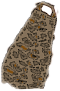infernocape: (1, 1, 59, 91)
